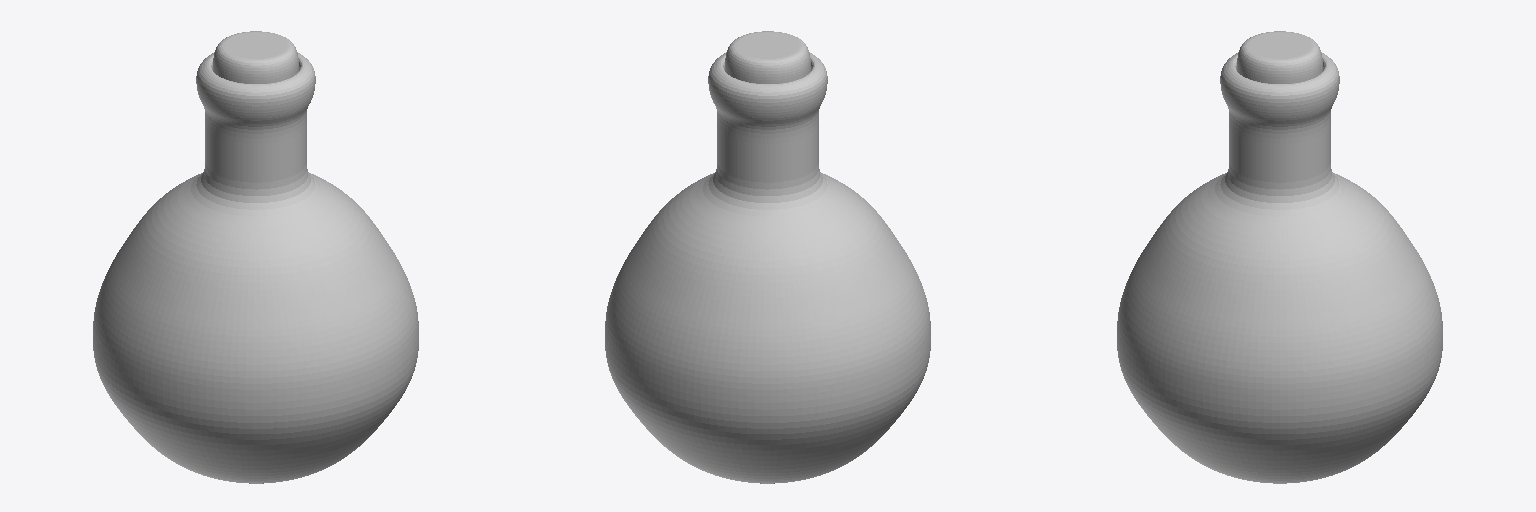
File: bottle.obj
3 views of the same model, side by side, from view 1: azimuth 30°, elevation 25°; view 2: azimuth 150°, elevation 25°; view 3: azimuth 270°, elevation 25° (orthographic).
Parts seen in each view (by area): view 1: cork_Circle_001; view 2: cork_Circle_001; view 3: cork_Circle_001.
Boxes of the visible parts, x1,y1,x2,y2 form: cork_Circle_001: [93, 31, 418, 483]; cork_Circle_001: [605, 31, 930, 483]; cork_Circle_001: [1117, 31, 1442, 483].
Bounding box in the file's own units: 1.08 × 1.53 × 1.08.